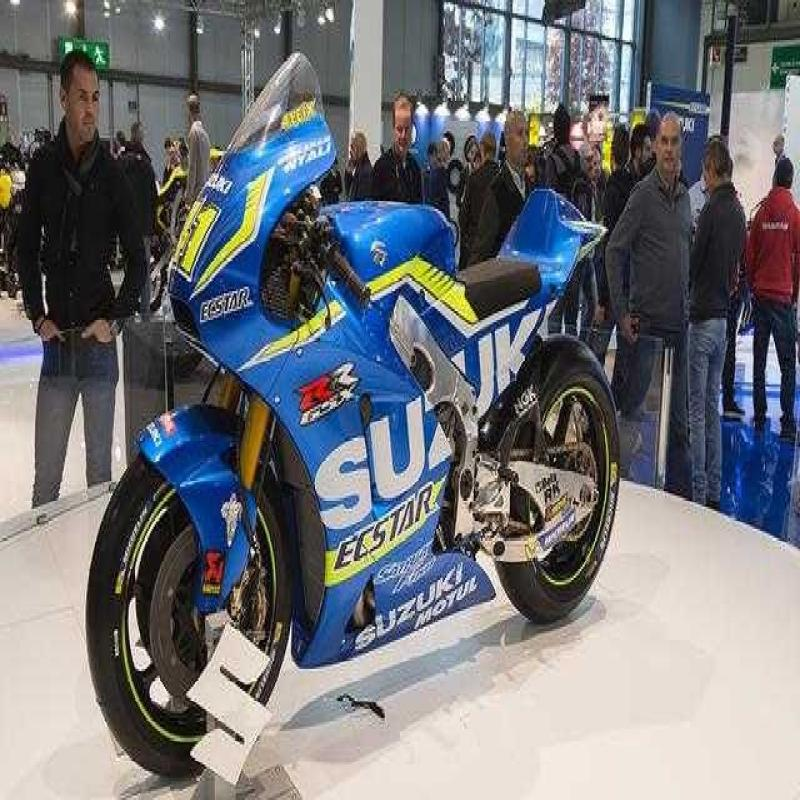bike: (94, 59, 618, 732)
